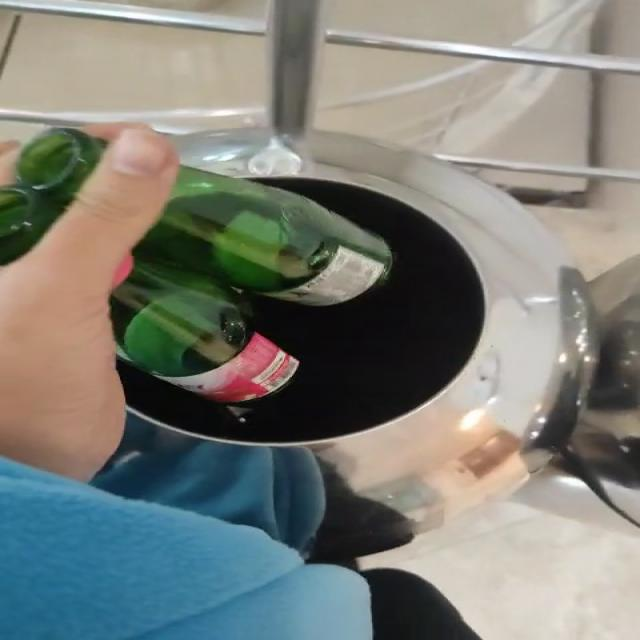glass: (111, 166, 392, 381), (0, 131, 103, 262)
